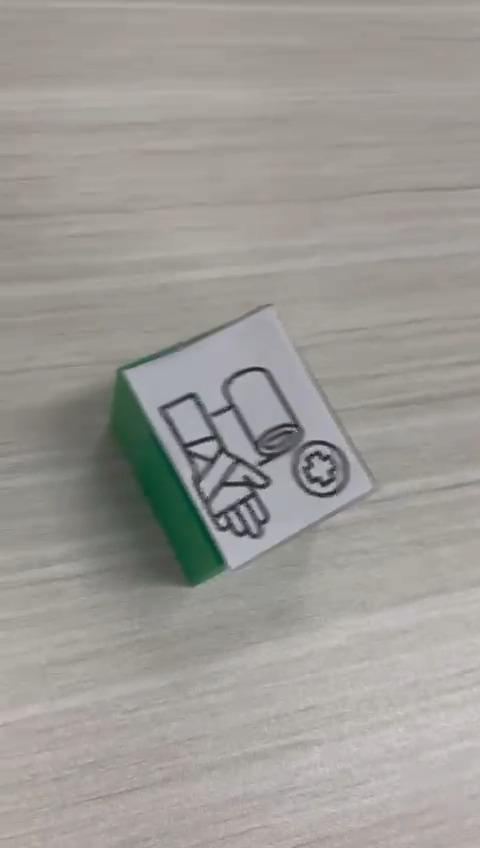Bandages: (112, 303, 377, 589)
